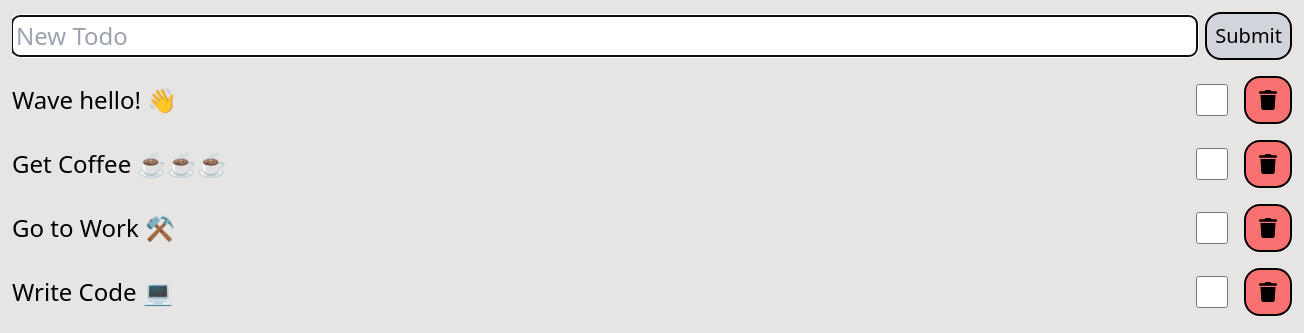
it: HomeView › should delete a todo
Check: the text "Get Coffee ☕☕☕" is shown, box [12,148,227,180]
Click the button with test id "delete-button" in the row of "Get Coffee ☕☕☕" at (1268, 164), box [1244,140,1292,188]
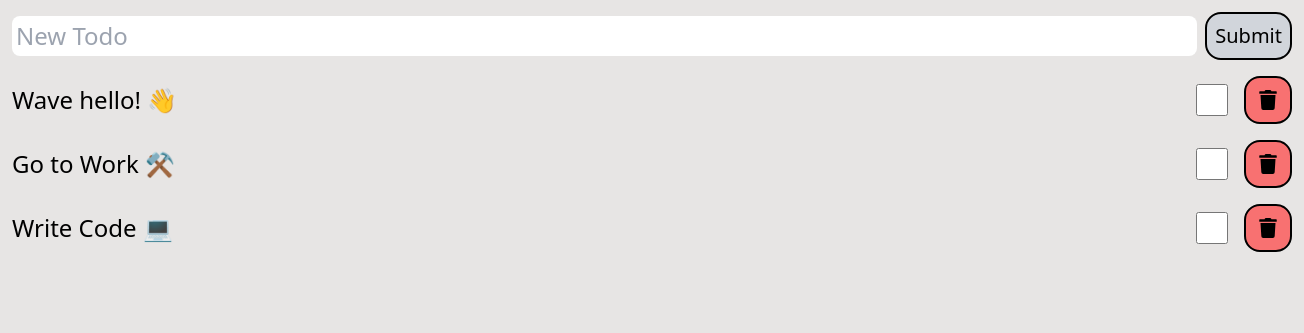
Check: the text "Get Coffee" is gone
